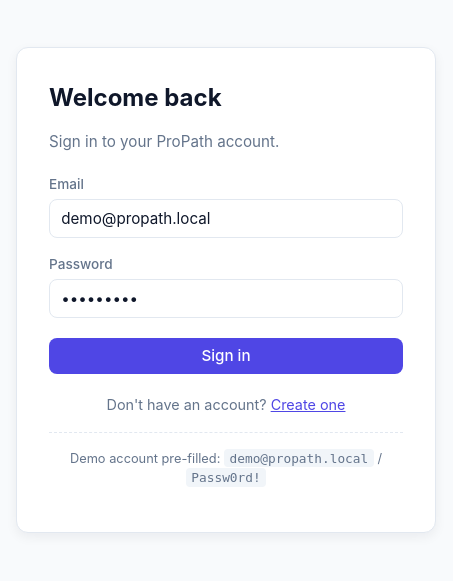
Test: LoginPage › shows an error banner when the login API rejects
Expected: the heading "Welcome back" is shown, left=49, top=83, right=222, bottom=112
Click the button "Sign in": [226, 356] box left=49, top=338, right=403, bottom=374
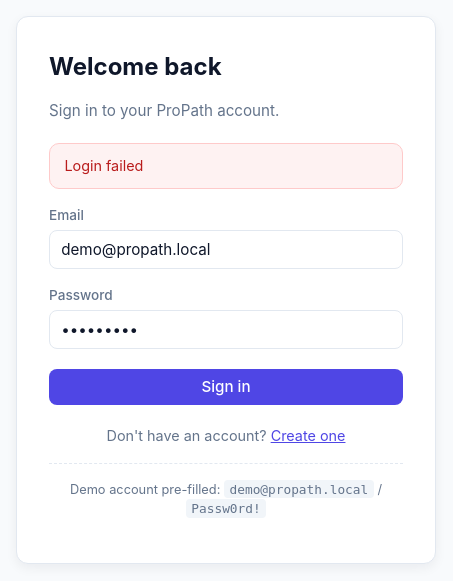
Expected: the text "Login failed" is shown, left=49, top=143, right=403, bottom=189
